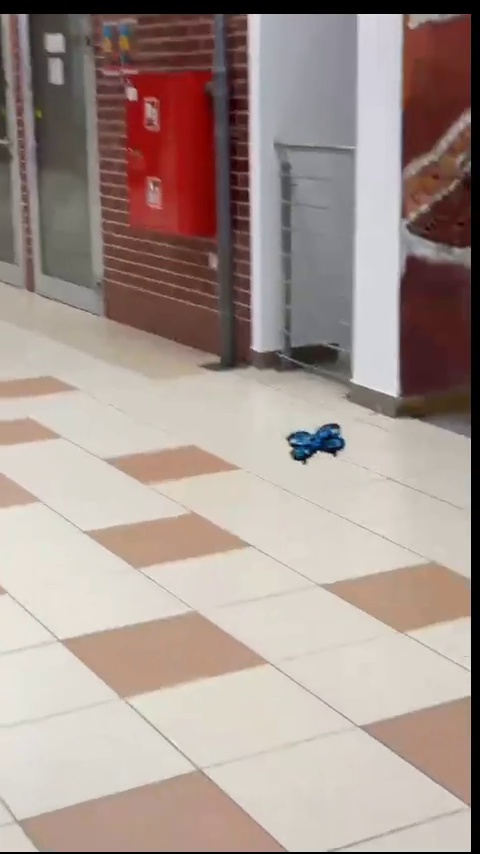drone: (289, 427, 349, 466)
